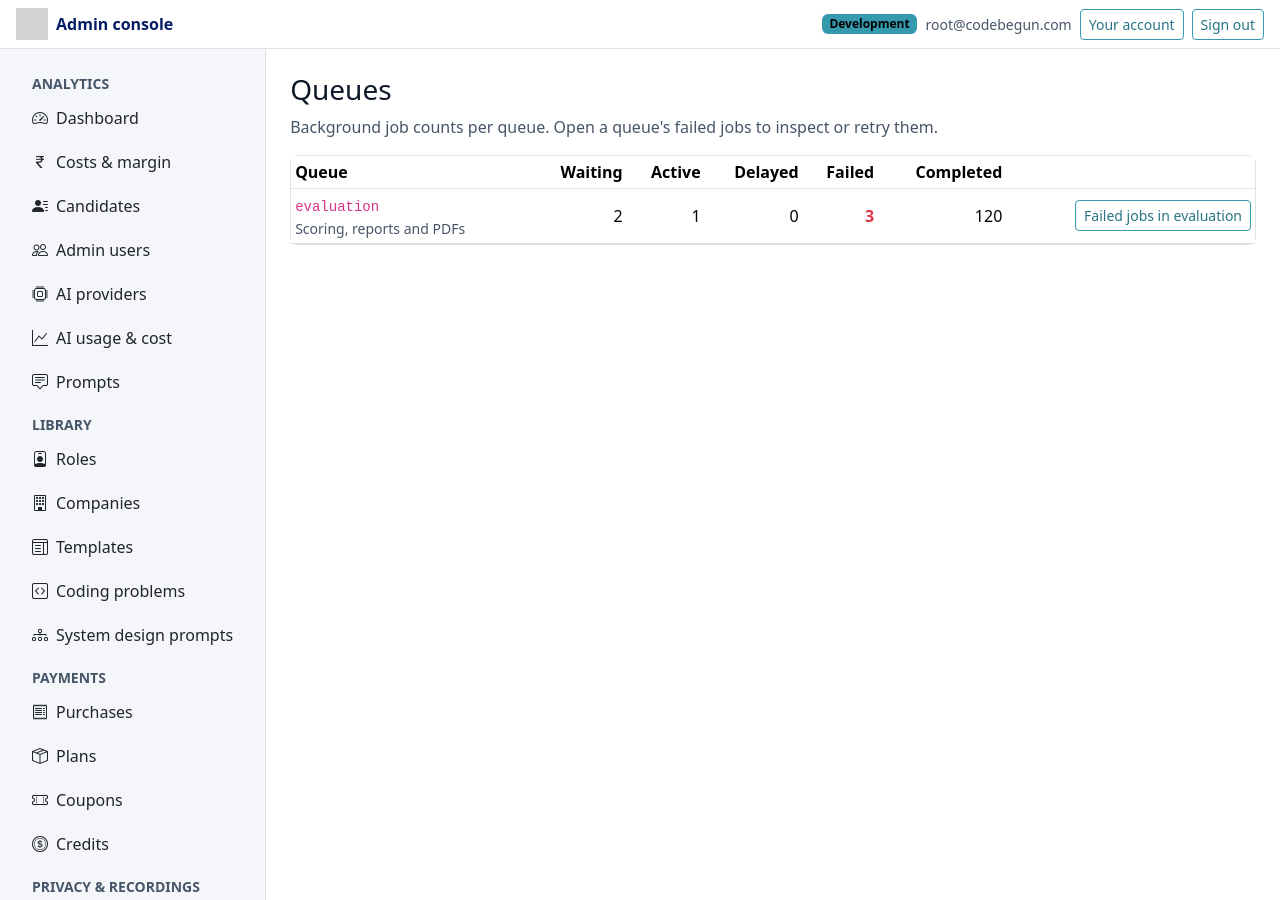
Test case: queues › refreshes the list when the job is no longer failed
Click the button "Failed jobs in evaluation" at [1163, 216], box [1075,200,1251,231]
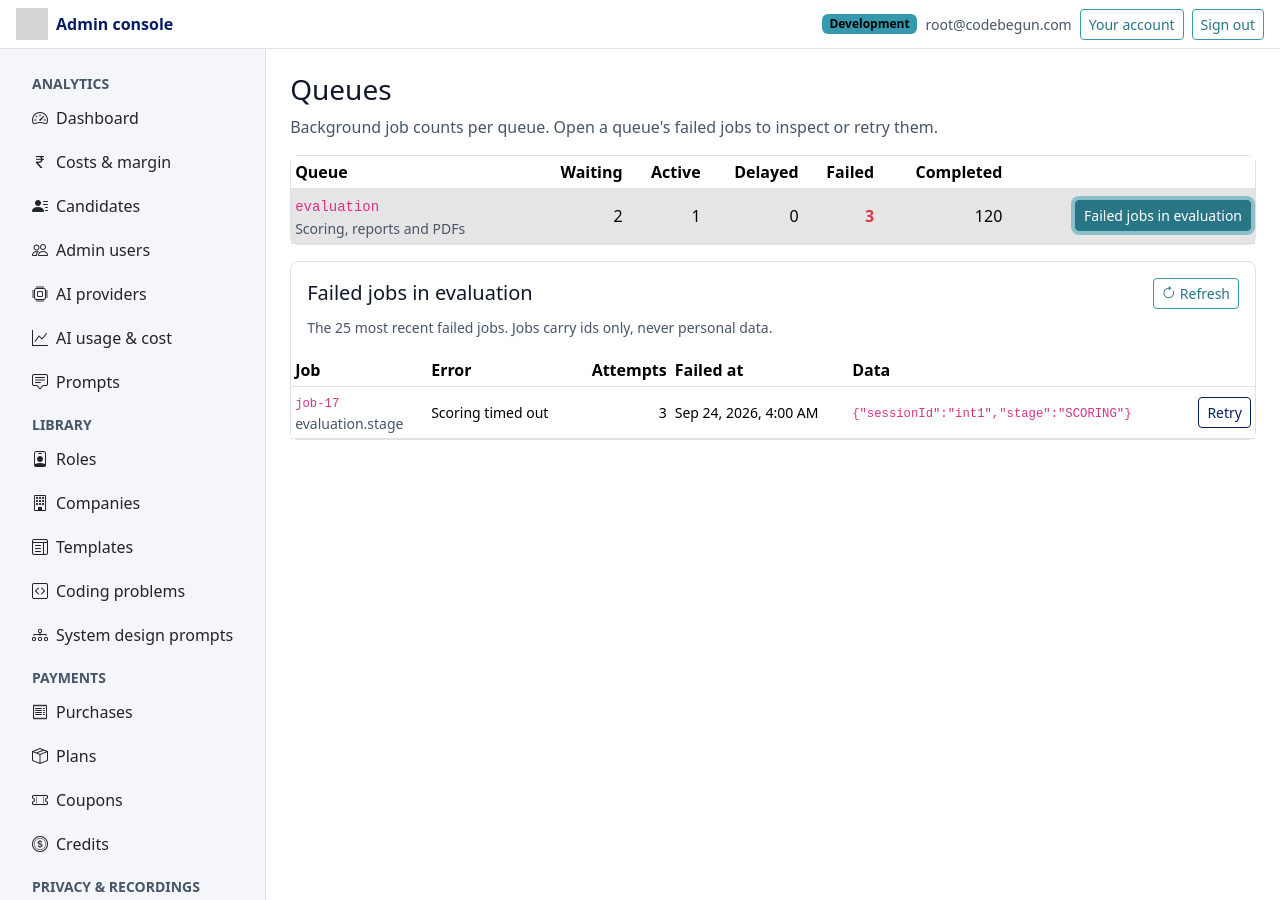
Click the button with aria-label "Retry job-17" at [1225, 412], box [1198,397,1251,428]
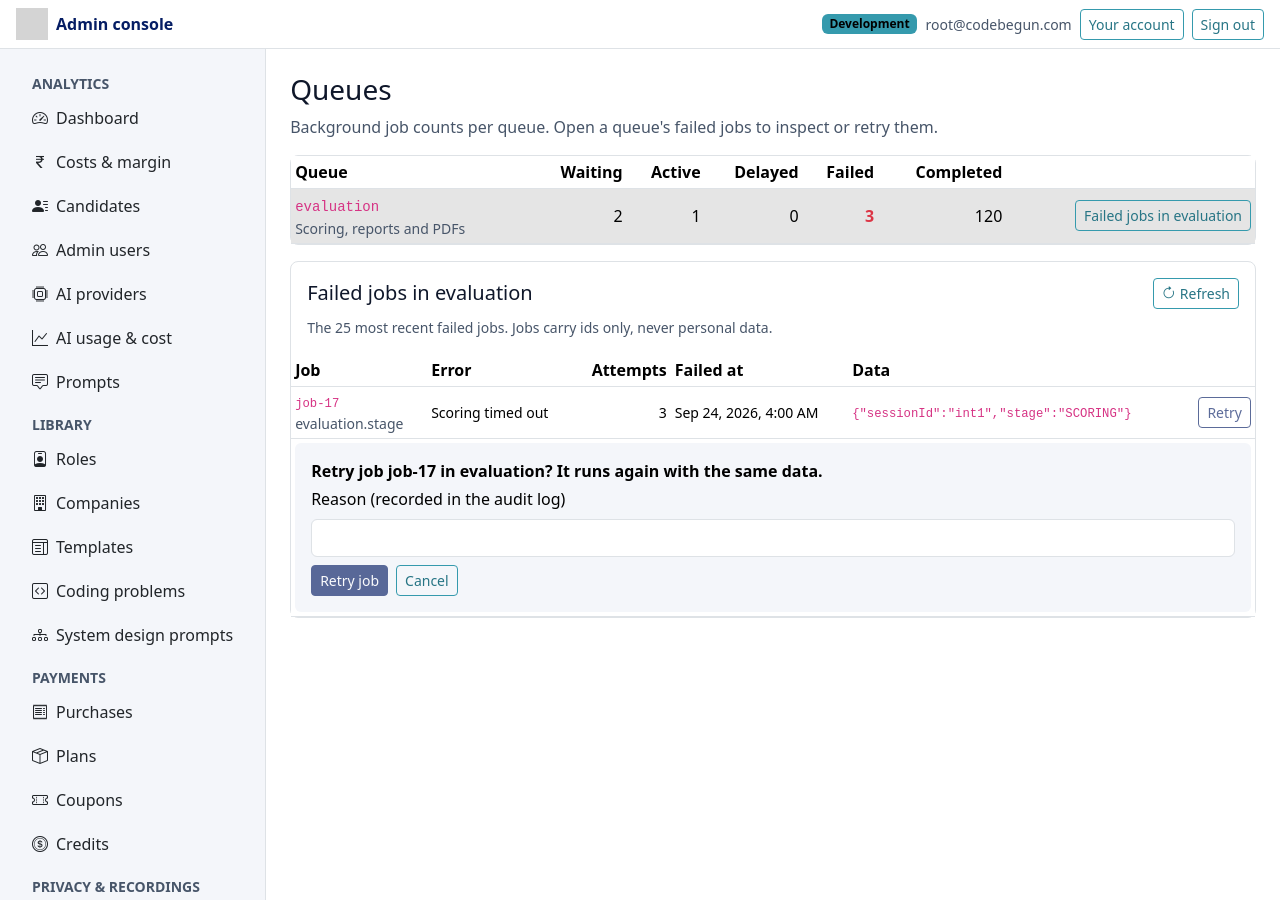
Type "Try again" into the field labelled "Reason (recorded in the audit log)" at [773, 538], box [311,519,1235,557]
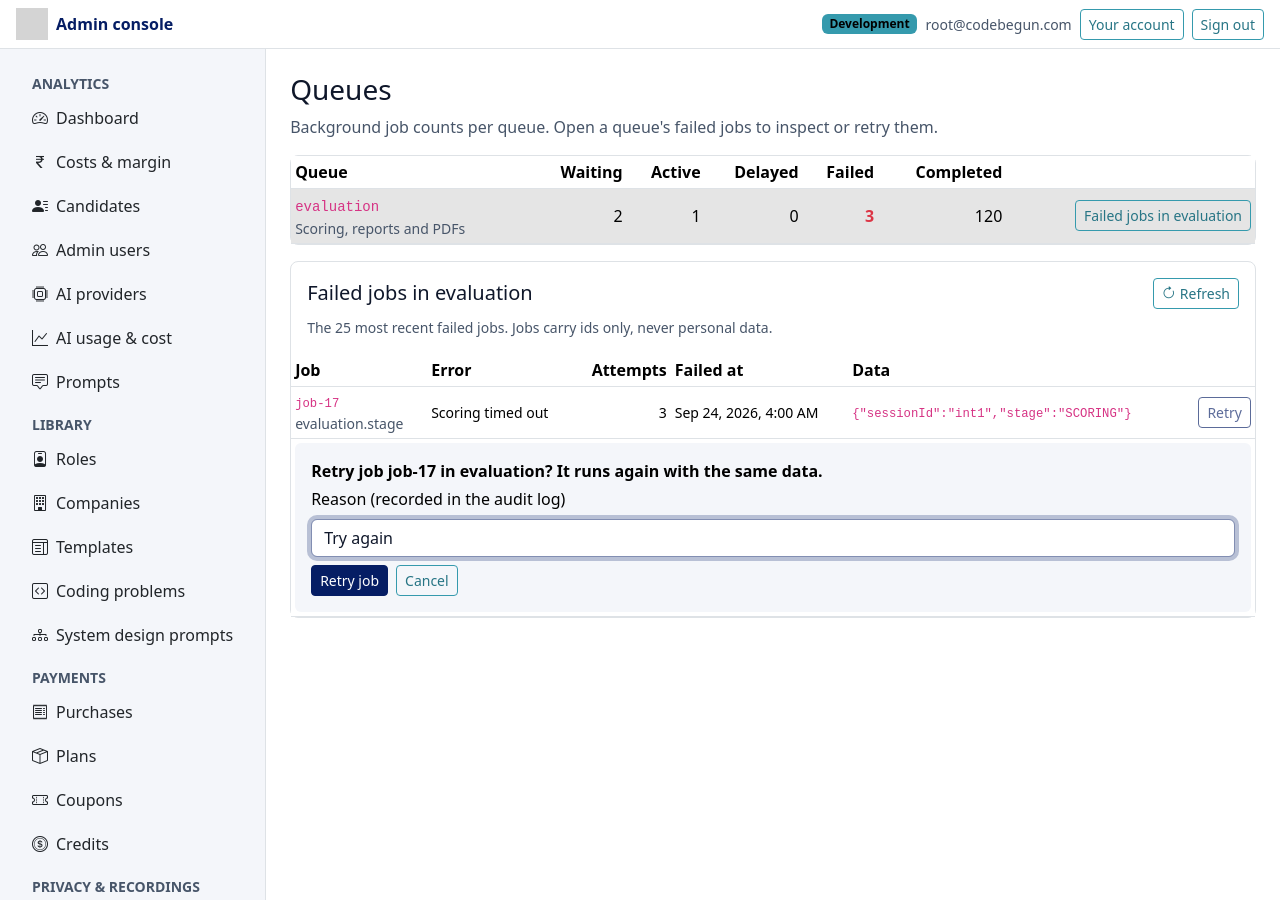
Click the button "Retry job" at [350, 580], box [311,565,388,596]
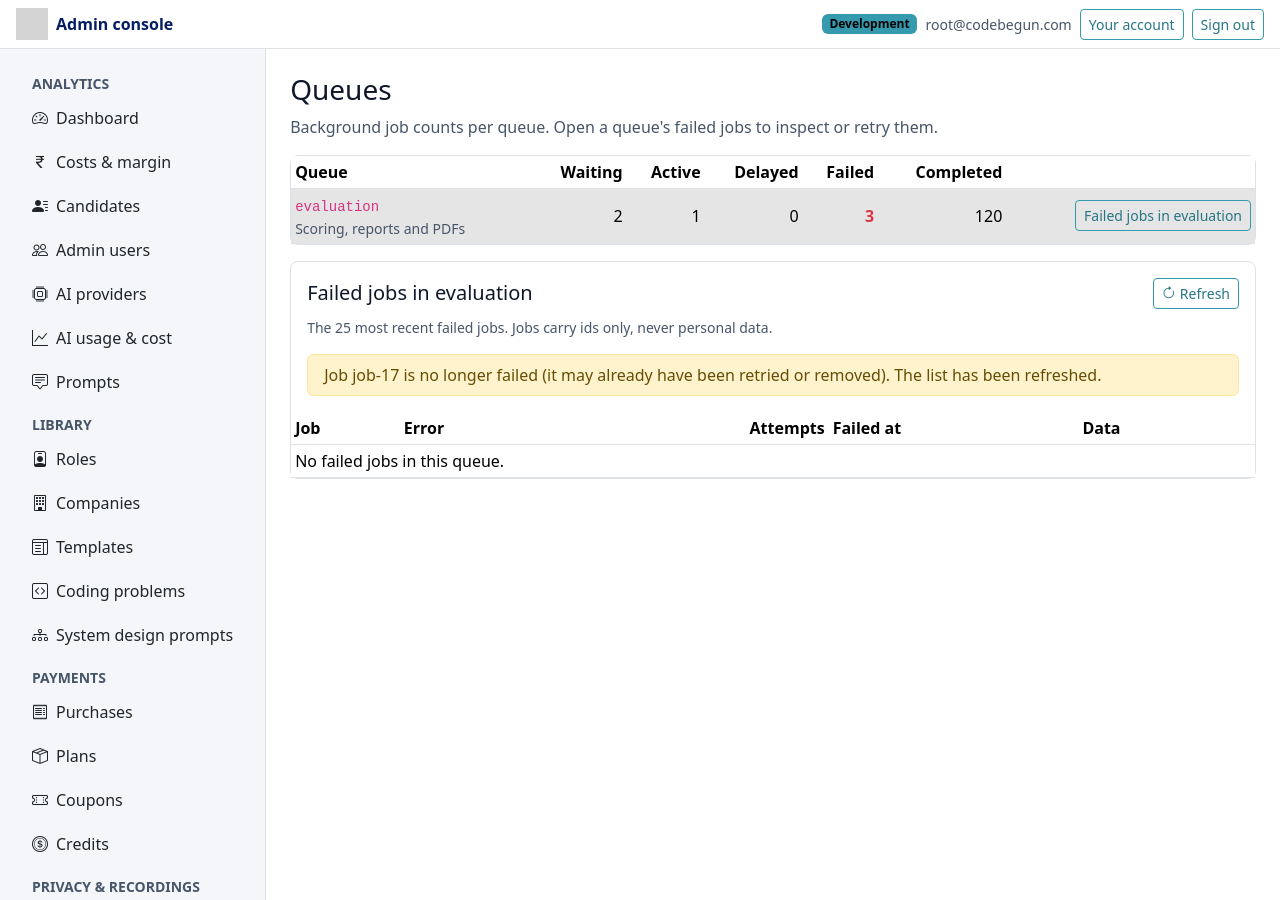
Expected: the text "Job job-17 is no longer failed (it may already have been retried or removed). The list has been refreshed." is shown, [324,364,1101,386]
Expected: the text "No failed jobs in this queue." is shown, [291,444,1255,477]
